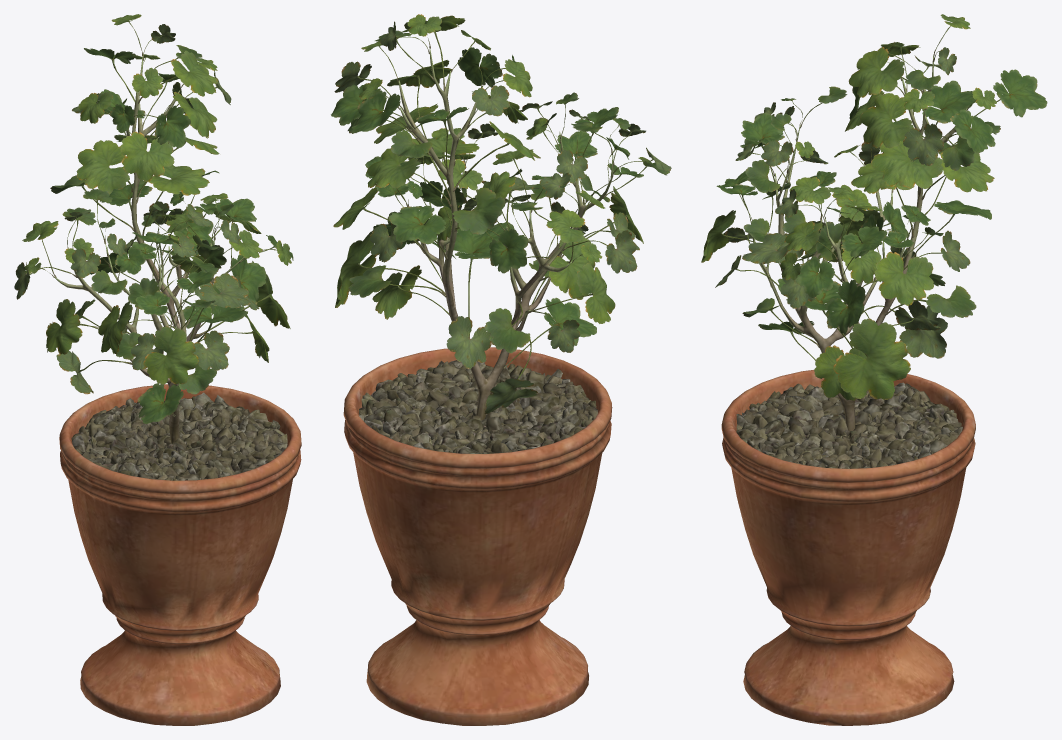
Rendered from plant.glb.
3 views of the same model, side by side, from view 1: azimuth 30°, elevation 25°; view 2: azimuth 150°, elevation 25°; view 3: azimuth 270°, elevation 25° (orthographic). The views are drawn at different scales.
Visible parts, largest first — view 1: potted_plant_01_stem, potted_plant_01_leaves; view 2: potted_plant_01_stem, potted_plant_01_leaves; view 3: potted_plant_01_stem, potted_plant_01_leaves.
Part boxes in pixels (box(x1,y1,x2,y2)): potted_plant_01_stem: box(54, 54, 301, 725); potted_plant_01_leaves: box(14, 14, 293, 423); potted_plant_01_stem: box(343, 48, 613, 725); potted_plant_01_leaves: box(331, 14, 671, 414); potted_plant_01_stem: box(721, 55, 975, 725); potted_plant_01_leaves: box(701, 14, 1047, 400).
Size of the model in its own units: 0.5874 by 1.34 by 0.6336.
2 materials, 2 textured.
